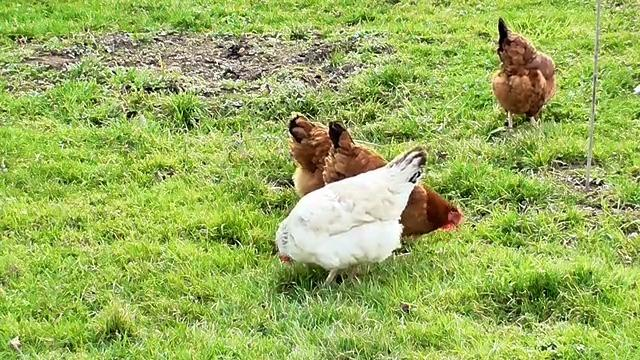Normal: (272, 149, 422, 283), (496, 21, 558, 130)
